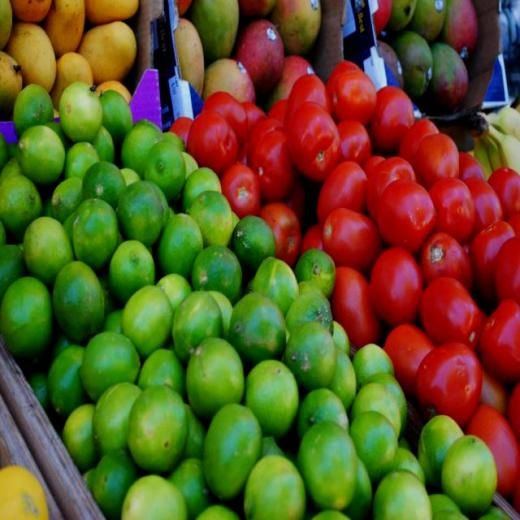Grape: (0, 465, 47, 520)
